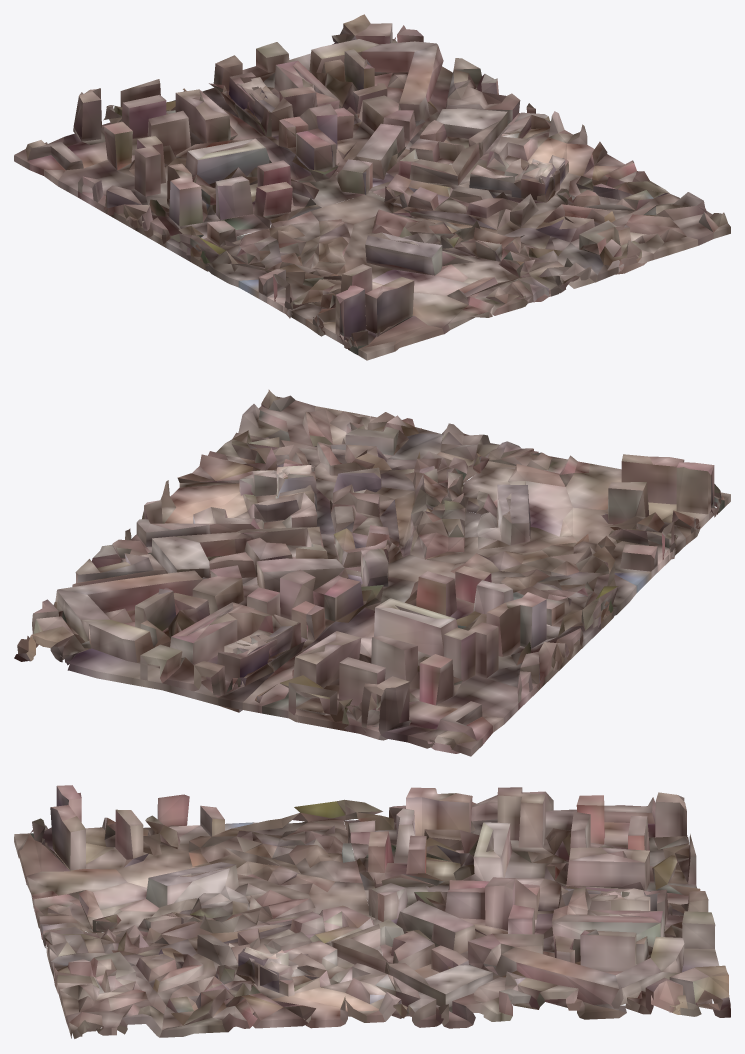
3 renders of one model, top to bottom at view 1: azimuth 30°, elevation 25°; view 2: azimuth 150°, elevation 25°; view 3: azimuth 270°, elevation 25°, orthographic. The views are drawn at different scales.
Parts seen in each view (by area): view 1: Mesh_0; view 2: Mesh_0; view 3: Mesh_0.
Boxes of the visible parts, x1,y1,x2,y2 form: Mesh_0: [14, 14, 730, 360]; Mesh_0: [14, 389, 730, 756]; Mesh_0: [14, 785, 730, 1038].
Size of the model in its own units: 532 by 74.53 by 659.
Materials: 1 (1 with a texture image).
